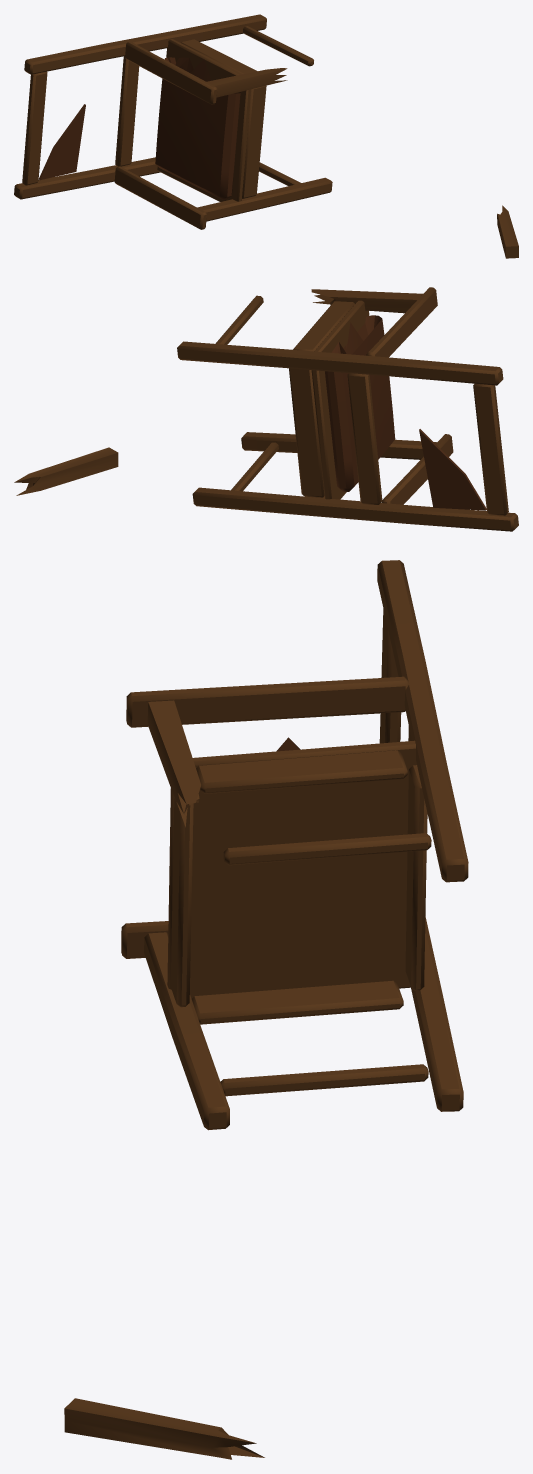
The model's file is stuhl_armlehne_kaputt.glb.
The picture shows the model from 3 angles, top to bottom: view 1: azimuth 30°, elevation 25°; view 2: azimuth 150°, elevation 25°; view 3: azimuth 270°, elevation 25°; orthographic projection. The views are drawn at different scales.
Visible parts, largest first — view 1: stuhl_armlehne_kaputt; view 2: stuhl_armlehne_kaputt; view 3: stuhl_armlehne_kaputt.
Boxes of the visible parts, x1,y1,x2,y2 form: stuhl_armlehne_kaputt: (14, 14, 518, 258); stuhl_armlehne_kaputt: (14, 287, 518, 531); stuhl_armlehne_kaputt: (64, 560, 468, 1459).
Size of the model in its own units: 1.99 by 0.9927 by 0.7667.
